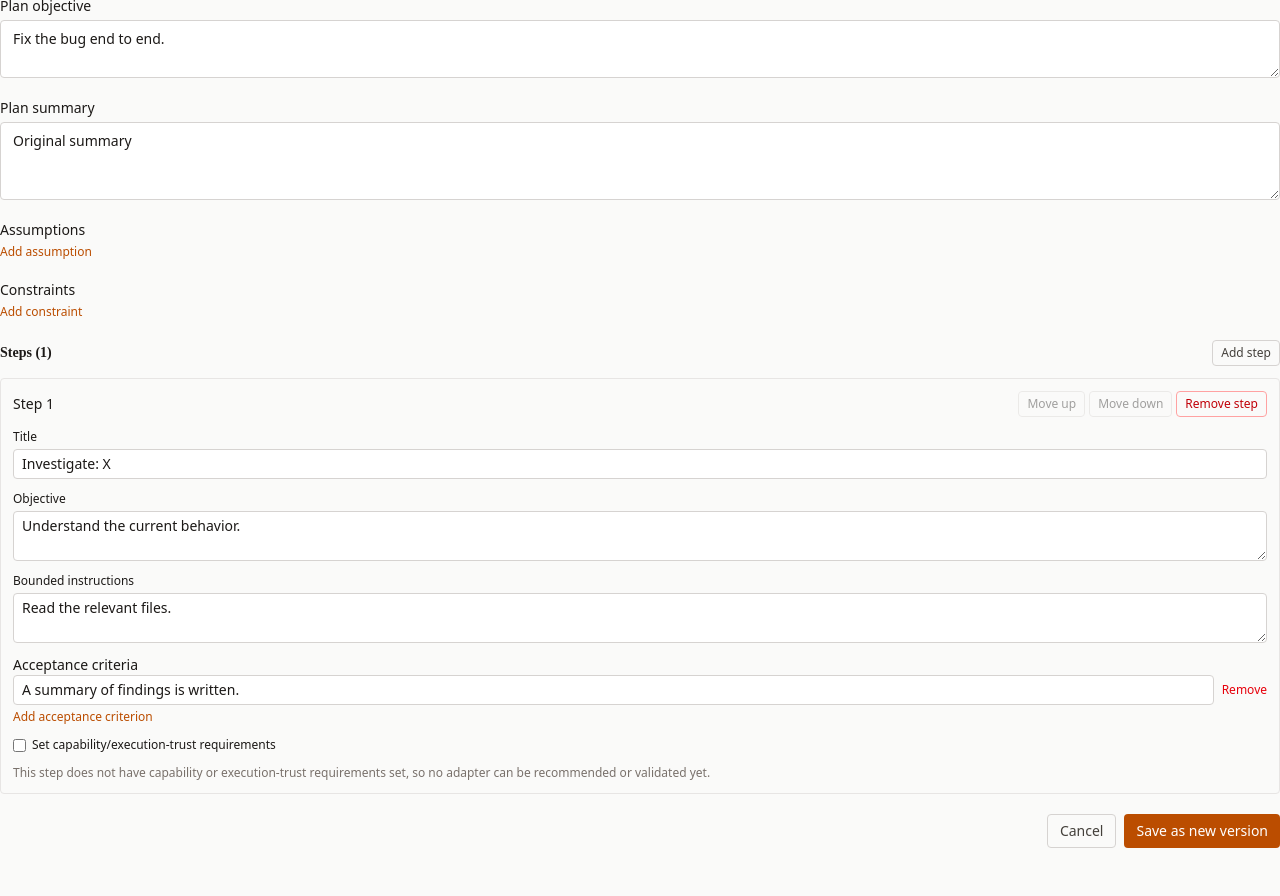
Test case: CeoPlanEditForm › adding a step disables Save until every required field on the new step is filled in
Expected: the button "Save as new version" is enabled, [1124,814,1279,848]
Click the button "Add step" at coordinates (1246, 353), box [1212,340,1279,366]
(page scrolled)
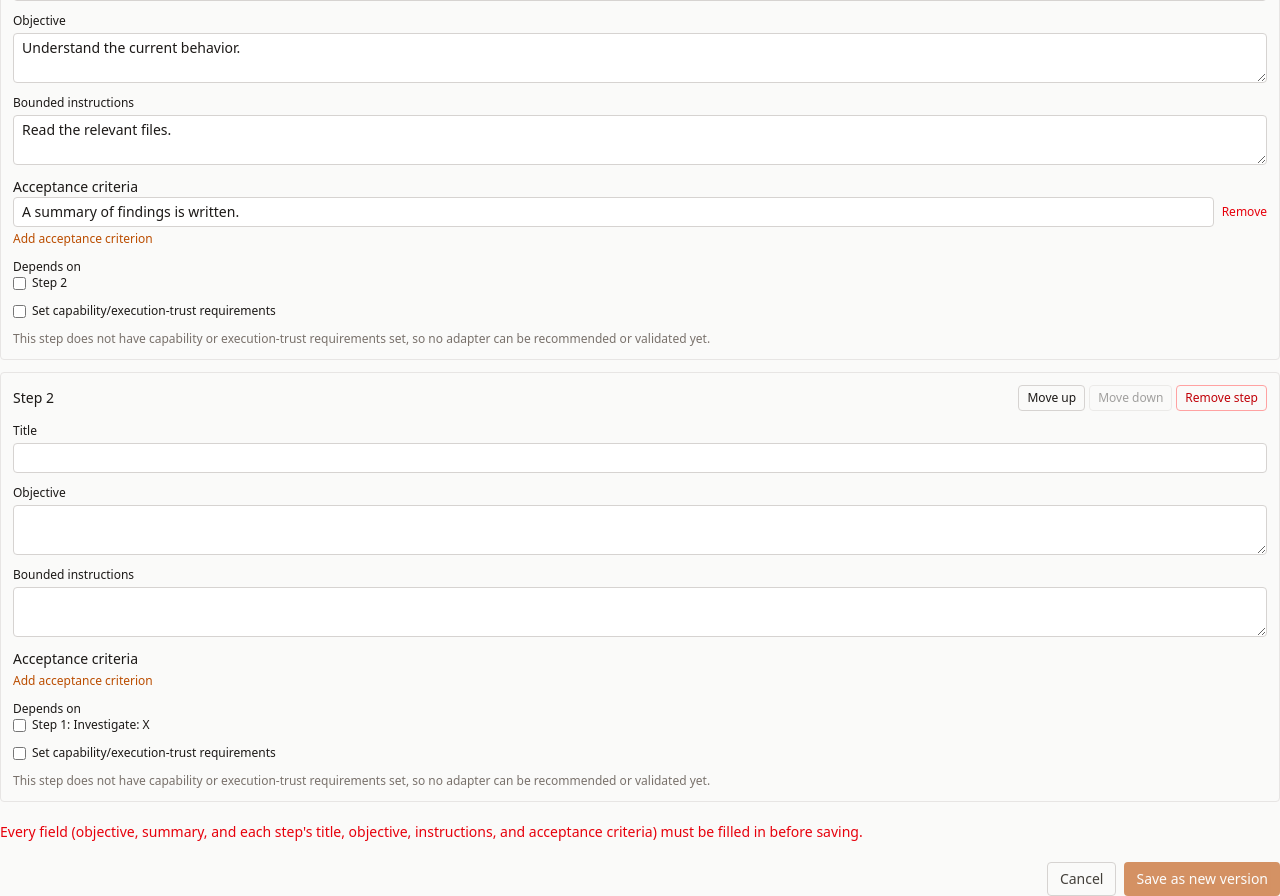
Now the button "Save as new version" is disabled, box [1124,862,1279,895]
Type "New step" into the 2nd field labelled "Title" at coordinates (640, 458), box [13,443,1267,473]
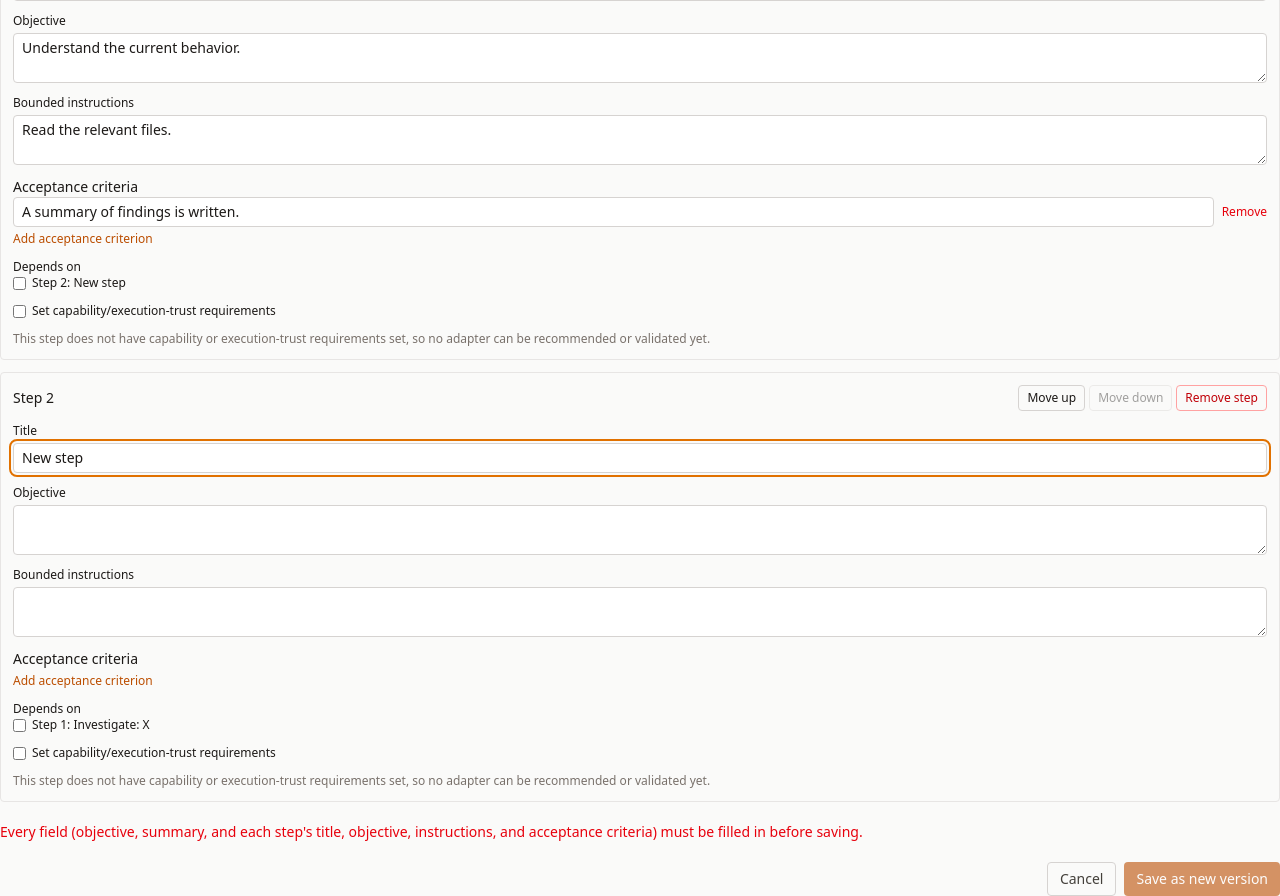
Type "New objective" into the 2nd text box labelled "Objective" at coordinates (640, 530), box [13,505,1267,555]
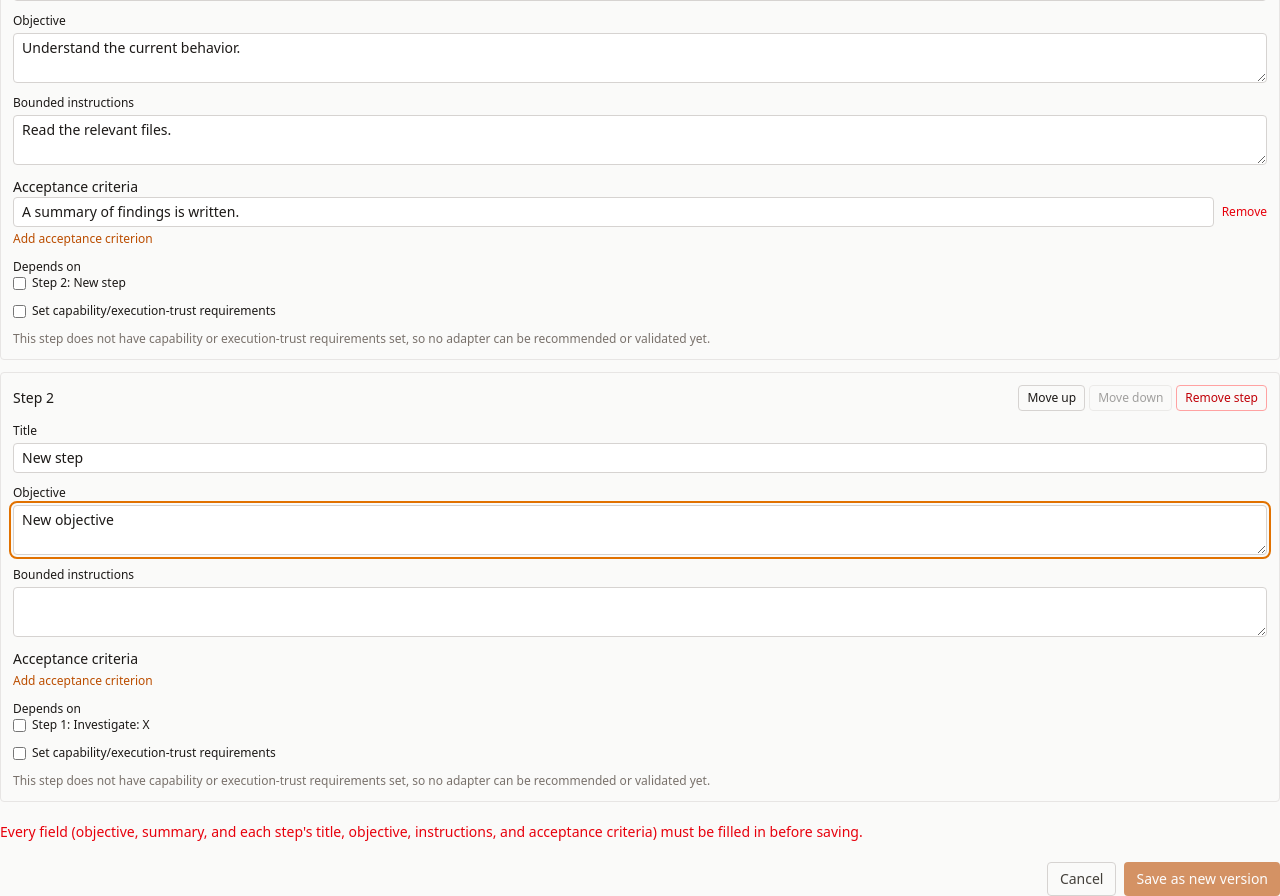
Type "New instructions" into the 2nd text box labelled "Bounded instructions" at coordinates (640, 612), box [13,587,1267,637]
(page scrolled)
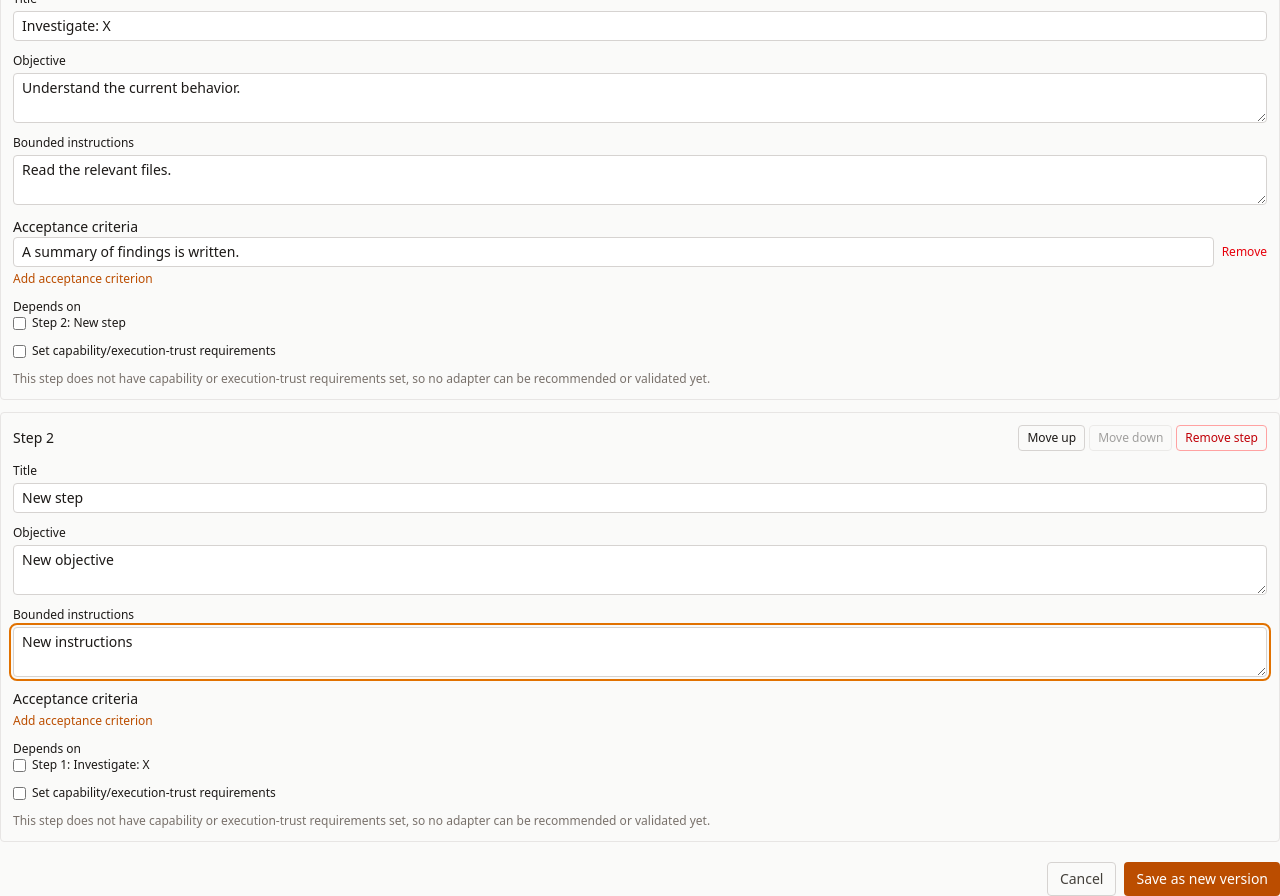
Now the button "Save as new version" is enabled, box [1124,862,1279,895]
